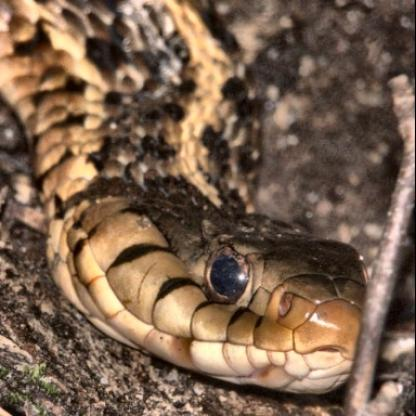Snake: (0, 0, 392, 402)
